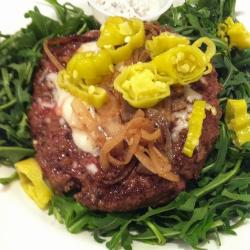burger: (36, 23, 225, 213)
salad: (157, 166, 239, 238)
